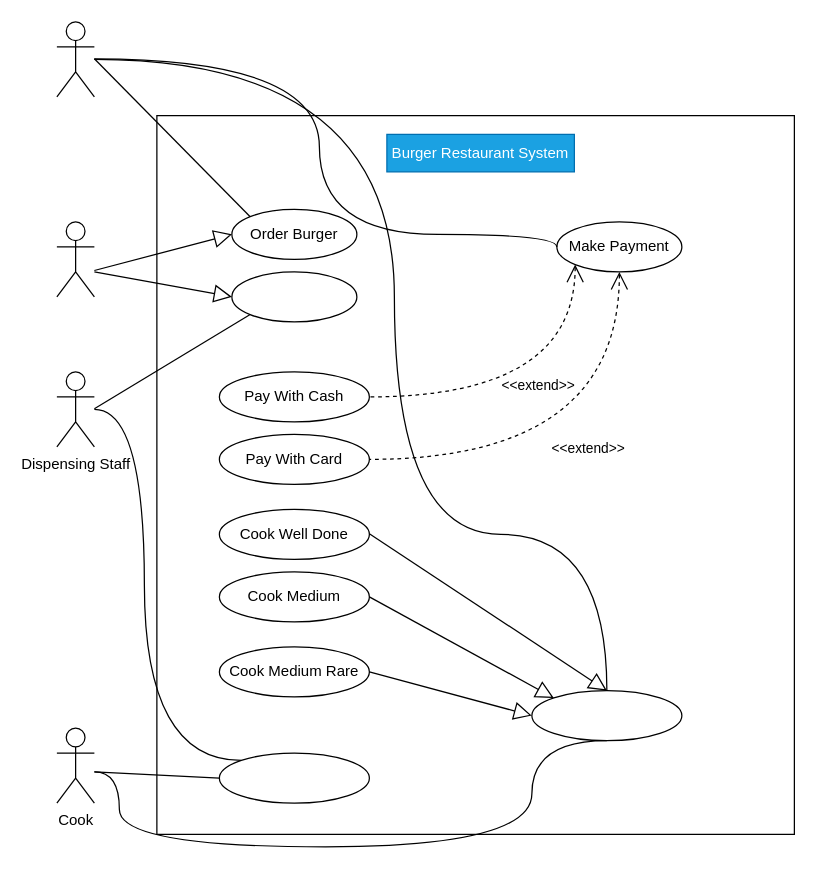
This 816x869 diagram has some shape labels left out. Each missing label, with the box of its shape:
Cashier: (56, 21, 94, 97)
Customer: (56, 221, 94, 297)
Hand Over Package: (231, 271, 357, 322)
Prepare/Cook Burger: (531, 689, 682, 741)
Process Order Notification: (218, 752, 369, 803)
